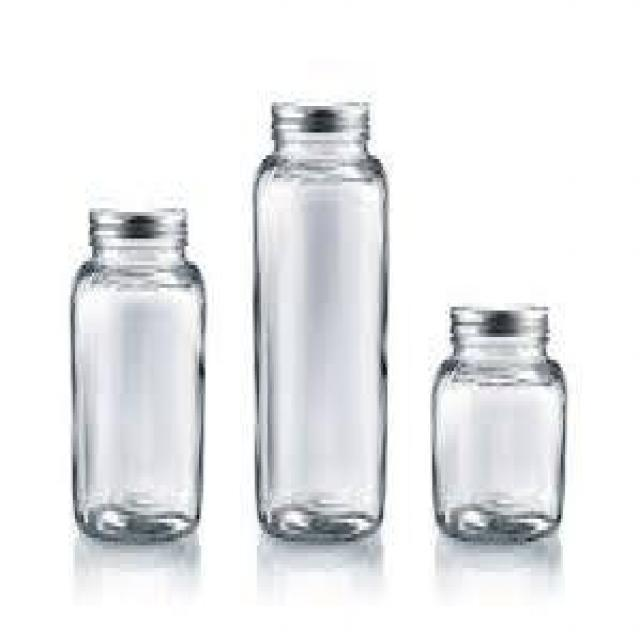glass: (251, 97, 394, 547), (426, 297, 570, 547)
